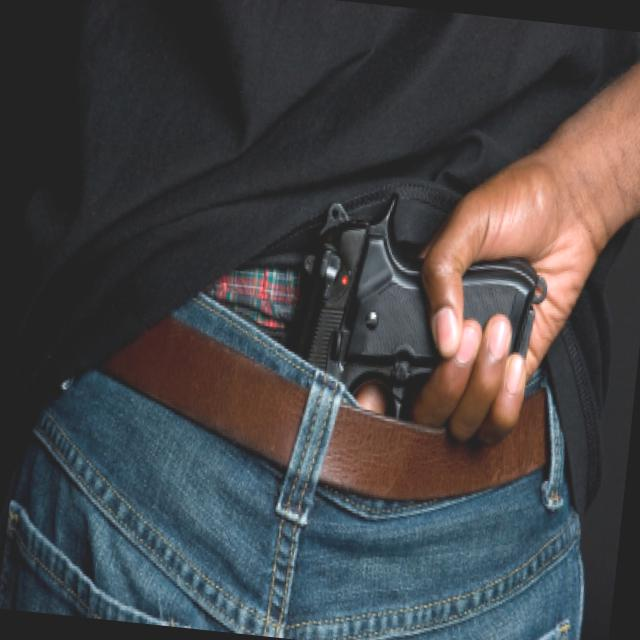handgun: (268, 182, 557, 512)
